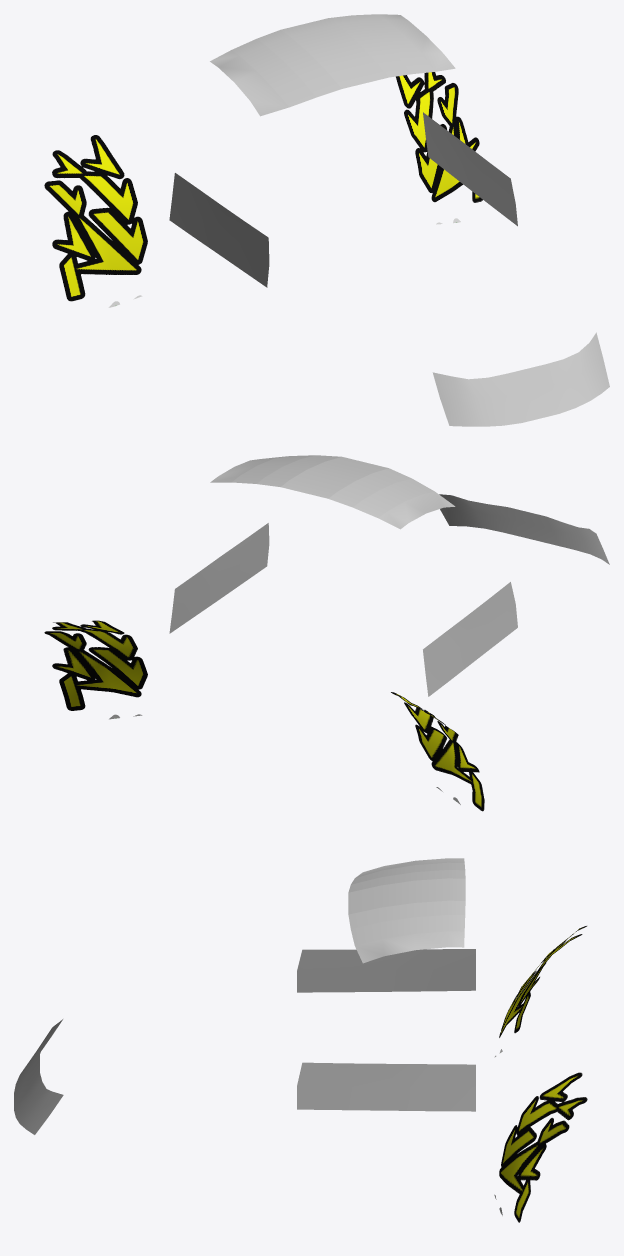
Rendered from Car_10_Decals.fbx.
3 views of the same model, one above another, from view 1: azimuth 30°, elevation 25°; view 2: azimuth 150°, elevation 25°; view 3: azimuth 270°, elevation 25° (orthographic). The views are drawn at different scales.
Parts seen in each view (by area): view 1: Car_10_Decals; view 2: Car_10_Decals; view 3: Car_10_Decals.
Part boxes in pixels (bbox=[...]): Car_10_Decals: bbox=[44, 14, 609, 426]; Car_10_Decals: bbox=[44, 455, 609, 811]; Car_10_Decals: bbox=[14, 858, 587, 1222].
Size of the model in its own units: 247 by 311 by 145.
